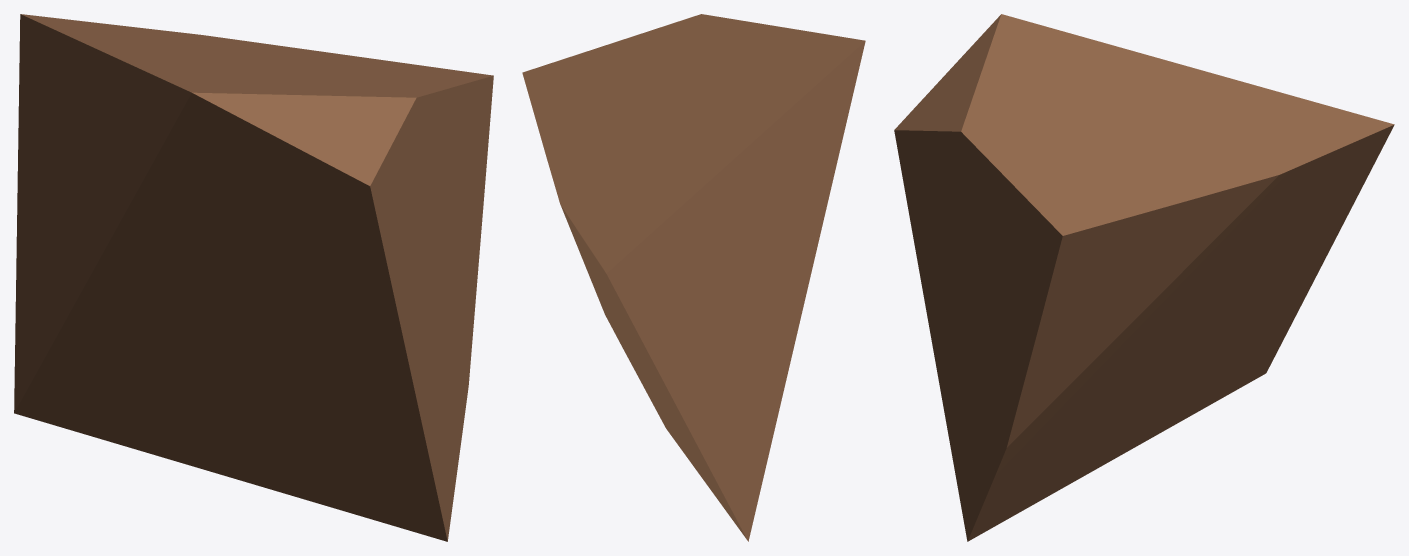
File: WoodCellCube_003_cell_042.fbx
The picture shows the model from 3 angles, left to right: view 1: azimuth 30°, elevation 25°; view 2: azimuth 150°, elevation 25°; view 3: azimuth 270°, elevation 25°; orthographic projection. The views are drawn at different scales.
Parts seen in each view (by area): view 1: WoodCellCube_003_cell_042; view 2: WoodCellCube_003_cell_042; view 3: WoodCellCube_003_cell_042.
Boxes of the visible parts, box(x1,y1,x2,y2) form: WoodCellCube_003_cell_042: box(14, 14, 493, 541); WoodCellCube_003_cell_042: box(522, 14, 865, 541); WoodCellCube_003_cell_042: box(894, 14, 1394, 541).
Size of the model in its own units: 0.266 by 0.2508 by 0.1932.
1 material, 1 textured.
